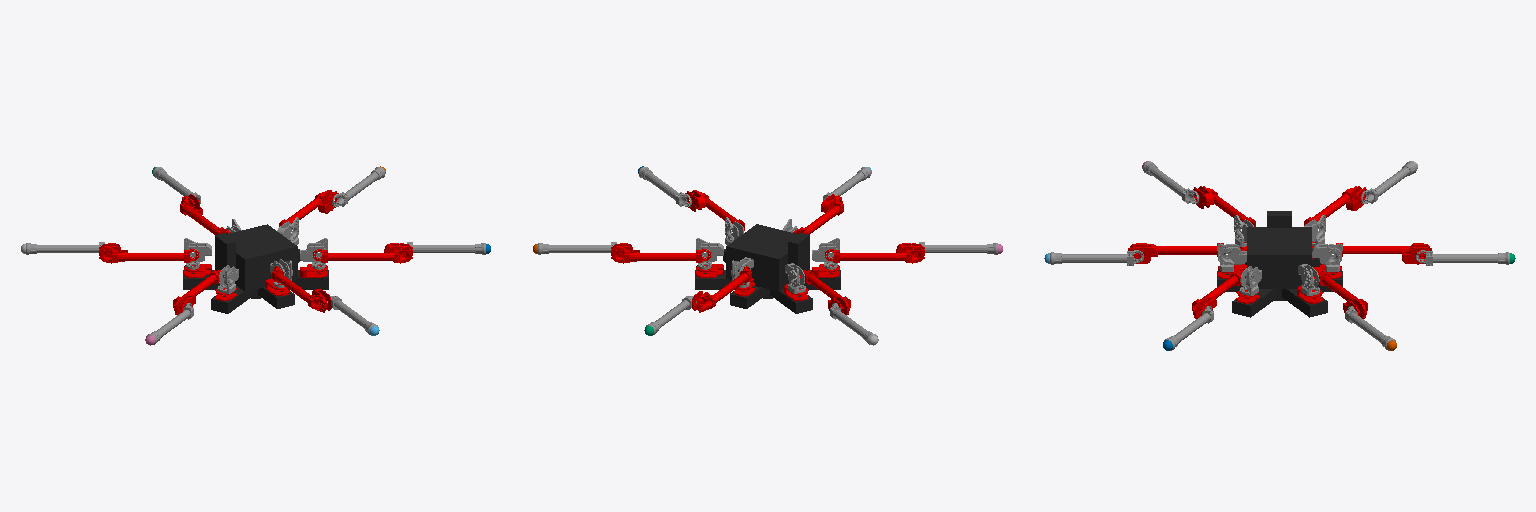
--- Render facts (derived) ---
Views: 3 orthographic renders of the robot side by side, from view 1: azimuth 30°, elevation 25°; view 2: azimuth 150°, elevation 25°; view 3: azimuth 270°, elevation 25°.
Robot: m6 — 31 links, 30 joints (18 revolute, 12 fixed); root link base_link; default pose: every joint at zero.
Visible links, largest first — view 1: base_link, elbow2__INPUT_INTERFACE, elbow5__INPUT_INTERFACE, elbow4__INPUT_INTERFACE, elbow3__INPUT_INTERFACE, elbow1__INPUT_INTERFACE, leg2__LAST_LINK, leg5__LAST_LINK, elbow6__INPUT_INTERFACE, leg1__LAST_LINK; view 2: base_link, elbow6__INPUT_INTERFACE, elbow1__INPUT_INTERFACE, elbow3__INPUT_INTERFACE, elbow4__INPUT_INTERFACE, leg6__LAST_LINK, leg1__LAST_LINK, elbow5__INPUT_INTERFACE, elbow2__INPUT_INTERFACE, leg2__LAST_LINK; view 3: base_link, elbow4__INPUT_INTERFACE, elbow3__INPUT_INTERFACE, leg4__LAST_LINK, leg3__LAST_LINK, elbow5__INPUT_INTERFACE, elbow1__INPUT_INTERFACE, elbow2__INPUT_INTERFACE, elbow6__INPUT_INTERFACE, leg5__LAST_LINK, leg6__LAST_LINK, shoulder3__INPUT_INTERFACE (+3 smaller).
Link boxes in pixels (box(x1,y1,x2,y2)): base_link: box(183, 224, 328, 313); elbow2__INPUT_INTERFACE: box(313, 243, 412, 263); elbow5__INPUT_INTERFACE: box(99, 243, 198, 263); elbow4__INPUT_INTERFACE: box(272, 266, 331, 312); elbow3__INPUT_INTERFACE: box(180, 194, 230, 234); elbow1__INPUT_INTERFACE: box(279, 190, 338, 226); leg2__LAST_LINK: box(407, 242, 485, 254); leg5__LAST_LINK: box(26, 242, 104, 254); elbow6__INPUT_INTERFACE: box(173, 270, 223, 314); leg1__LAST_LINK: box(332, 167, 385, 206); base_link: box(695, 224, 840, 313); elbow6__INPUT_INTERFACE: box(825, 243, 924, 263); elbow1__INPUT_INTERFACE: box(611, 243, 710, 263); elbow3__INPUT_INTERFACE: box(692, 266, 751, 312); elbow4__INPUT_INTERFACE: box(793, 194, 843, 234); leg6__LAST_LINK: box(919, 242, 997, 254); leg1__LAST_LINK: box(538, 242, 616, 254); elbow5__INPUT_INTERFACE: box(800, 270, 850, 314); elbow2__INPUT_INTERFACE: box(685, 190, 744, 230); leg2__LAST_LINK: box(638, 167, 691, 206); base_link: box(1217, 211, 1342, 317); elbow4__INPUT_INTERFACE: box(1128, 243, 1223, 263); elbow3__INPUT_INTERFACE: box(1336, 243, 1431, 264); leg4__LAST_LINK: box(1050, 250, 1143, 265); leg3__LAST_LINK: box(1416, 250, 1509, 265); elbow5__INPUT_INTERFACE: box(1304, 186, 1366, 225); elbow1__INPUT_INTERFACE: box(1314, 270, 1367, 318); elbow2__INPUT_INTERFACE: box(1192, 270, 1245, 318); elbow6__INPUT_INTERFACE: box(1193, 186, 1255, 226); leg5__LAST_LINK: box(1361, 161, 1416, 203); leg6__LAST_LINK: box(1143, 161, 1198, 203); shoulder3__INPUT_INTERFACE: box(1312, 243, 1342, 271).
Size in the robot's own frame: 1.54 by 1.67 by 0.245 metres.
25 mesh visuals loaded from 6 distinct referenced files (6 binary STL).

robot.urdf — m6:
<?xml version="1.0" encoding="utf-8"?>
<!-- =================================================================================== -->
<!-- |    This document was autogenerated by xacro from m6.urdf.xacro                  | -->
<!-- |    EDITING THIS FILE BY HAND IS NOT RECOMMENDED                                 | -->
<!-- =================================================================================== -->
<robot name="m6">
  <material name="red">
    <color rgba="0.92 0.0 0.0 1"/>
  </material>
  <material name="black">
    <color rgba="0.2 0.2 0.2 1"/>
  </material>
  <material name="grey">
    <color rgba="0.6 0.6 0.6 1"/>
  </material>
  <!-- <link name="dummy">
  </link>

  <joint name="dummy_joint" type="fixed">
  <parent link="dummy"/>
  <child link="base_link"/>
  </joint> -->
  <link name="base_link">
    <inertial>
      <origin rpy="0 0 0 " xyz="-0.0028085 -0.0003448 0.0270705"/>
      <mass value="1.8476"/>
      <inertia ixx="0" ixy="0" ixz="0" iyy="0" iyz="0" izz="0"/>
    </inertial>
    <visual>
      <origin rpy="0 0 0" xyz="0 0 0"/>
      <geometry>
        <mesh filename="yuna_stl/M6_base_matt6_boxed_full.STL"/>
      </geometry>
      <material name="black">
      </material>
    </visual>
    <collision>
      <origin rpy="0.0 0.0 0.0" xyz="-0.020030 0.0 0.09"/>
      <geometry>
        <box size="0.261940 0.223 0.18"/>
      </geometry>
    </collision>
    <collision>
      <origin rpy="0.0 0.0 0.0" xyz="0.0 0.0 -0.0335"/>
      <geometry>
        <cylinder length="0.063" radius="0.0777"/>
      </geometry>
    </collision>
    <!-- Pipes below PC box -->
    <collision>
      <origin rpy="0.523583333333 1.57075 0.0" xyz="0.1209 -0.06985 -0.02"/>
      <geometry>
        <cylinder length="0.126" radius="0.015800"/>
      </geometry>
    </collision>
    <collision>
      <origin rpy="-0.523583333333 1.57075 0.0" xyz="0.1209 0.06985 -0.02"/>
      <geometry>
        <cylinder length="0.126" radius="0.015800"/>
      </geometry>
    </collision>
    <collision>
      <origin rpy="0.523583333333 1.57075 0.0" xyz="-0.1209 0.06985 -0.02"/>
      <geometry>
        <cylinder length="0.126" radius="0.015800"/>
      </geometry>
    </collision>
    <collision>
      <origin rpy="-0.523583333333 1.57075 0.0" xyz="-0.1209 -0.06985 -0.02"/>
      <geometry>
        <cylinder length="0.126" radius="0.015800"/>
      </geometry>
    </collision>
    <collision>
      <origin rpy="1.57075 1.57075 0.0" xyz="0.0 0.1147 -0.02"/>
      <geometry>
        <cylinder length="0.076" radius="0.015800"/>
      </geometry>
    </collision>
    <collision>
      <origin rpy="1.57075 1.57075 0.0" xyz="0.0 -0.1147 -0.02"/>
      <geometry>
        <cylinder length="0.076" radius="0.015800"/>
      </geometry>
    </collision>
    <!-- Boxes at the end of pipes -->
    <collision>
      <origin rpy="0.0 0.0 0.523583333333" xyz="0.20802 0.1201 -0.023"/>
      <geometry>
        <box size="0.073 0.075 0.046"/>
      </geometry>
    </collision>
    <collision>
      <origin rpy="0.0 0.0 -0.523583333333" xyz="0.20802 -0.1201 -0.023"/>
      <geometry>
        <box size="0.073 0.075 0.046"/>
      </geometry>
    </collision>
    <collision>
      <origin rpy="0.0 0.0 0.523583333333" xyz="-0.20802 -0.1201 -0.023"/>
      <geometry>
        <box size="0.073 0.075 0.046"/>
      </geometry>
    </collision>
    <collision>
      <origin rpy="0.0 0.0 -0.523583333333" xyz="-0.20802 0.1201 -0.023"/>
      <geometry>
        <box size="0.073 0.075 0.046"/>
      </geometry>
    </collision>
    <collision>
      <origin rpy="0.0 0.0 1.57075" xyz="0.0 0.1902 -0.023"/>
      <geometry>
        <box size="0.073 0.075 0.046"/>
      </geometry>
    </collision>
    <collision>
      <origin rpy="0.0 0.0 1.57075" xyz="0.0 -0.1902 -0.023"/>
      <geometry>
        <box size="0.073 0.075 0.046"/>
      </geometry>
    </collision>
  </link>


  <joint name="leg1__OUTPUT_INTERFACE" type="fixed">
    <origin rpy="0 0 3.66508333333" xyz="0.205681 0.11875 0"/>
    <parent link="base_link"/>
    <child link="base1__INPUT_INTERFACE"/>
    <axis xyz="0 0 1"/>
    <limit effort="0" velocity="0"/>
  </joint>
    <link name="base1__INPUT_INTERFACE">
    <inertial>
      <origin rpy="0 0 0" xyz="0.015005 0.001775 0.015011"/>
      <mass value="1.2804"/>
      <inertia ixx="0.000533112547871023" ixy="8.52907138161489E-05" ixz="6.73224445510202E-07" iyy="0.000959826064510336" iyz="8.0840859065961E-07" izz="0.00130175668733721"/>
    </inertial>
    <visual>
      <origin rpy="0 0 0" xyz="0 0 0.015"/>
      <geometry>
        <mesh filename="yuna_stl/M6_base_motor.STL"/>
      </geometry>
      <material name="red">
      </material>
    </visual>
    <collision>
      <!--origin
          xyz="0 0 0.015"
          rpy="0 0 0" />
        <geometry>
          <mesh
            filename="yuna_stl/boxed_meshes/base_motor.STL" />
        </geometry-->
      <origin rpy="0 0 0" xyz="0.019940 0.001750 0.015525"/>
      <geometry>
        <box size="0.106400 0.069500 0.031050"/>
      </geometry>
    </collision>
  </link>
  <link name="shoulder1__INPUT_INTERFACE">
    <inertial>
      <origin rpy="0 0 0" xyz="-0.012554 -0.0090693 0.0503697"/>
      <mass value="1.4679"/>
      <inertia ixx="0.00085304" ixy="-4.463E-05" ixz="4.178E-05" iyy="0.0016596" iyz="4.4E-06" izz="0.00113592"/>
    </inertial>
    <visual>
      <origin rpy="0 0 0" xyz="0 0 0"/>
      <geometry>
        <mesh filename="yuna_stl/M6_left_link1_red.STL"/>
      </geometry>
      <material name="grey">
      </material>
    </visual>
    <collision>
      <!--origin
          xyz="0 0 0"
          rpy="0 0 0" />
        <geometry>
          <mesh
            filename="yuna_stl/boxed_meshes/left_link1_red.STL" />
        </geometry-->
      <origin rpy="0 0 0" xyz="-0.019070 -0.014470 0.052500"/>
      <geometry>
        <box size="0.108140 0.04500 0.104000"/>
      </geometry>
    </collision>
  </link>
  <joint name="base1" type="revolute">
    <origin rpy="0 0 3.1415" xyz="0 0 0.03105"/>
    <parent link="base1__INPUT_INTERFACE"/>
    <child link="shoulder1__INPUT_INTERFACE"/>
    <axis xyz="0 0 1"/>
    <dynamics damping=".1" friction="0.2"/>
    <limit effort="100.0" lower="-1.57075" upper="1.57075" velocity="2.208932"/>
  </joint>
  <transmission name="base1_trans">
    <type>transmission_interface/SimpleTransmission</type>
    <joint name="base1">
      <hardwareInterface>hardware_interface/EffortJointInterface</hardwareInterface>
    </joint>
    <actuator name="base1_motor">
      <hardwareInterface>hardware_interface/EffortJointInterface</hardwareInterface>
      <mechanicalReduction>300</mechanicalReduction>
    </actuator>
  </transmission>
  <link name="elbow1__INPUT_INTERFACE">
    <inertial>
      <origin rpy="0 0 0" xyz="0.27885723 0.00143862 -0.00919708"/>
      <mass value="1.58985"/>
      <inertia ixx="0.00087813" ixy="-2.653E-05" ixz="-0.00101493" iyy="0.01121522" iyz="-1.36E-05" izz="0.01137087"/>
    </inertial>
    <visual>
      <origin rpy="0 0 0" xyz="0 0 0"/>
      <geometry>
        <mesh filename="yuna_stl/M6_link2_red.STL"/>
      </geometry>
      <material name="red">
      </material>
    </visual>
    <collision>
      <!--origin
          xyz="0 0 0"
          rpy="0 0 0" />
        <geometry>
          <mesh
            filename="yuna_stl/boxed_meshes/link2_red.STL" />
        </geometry-->
      <origin rpy="0 0 0" xyz="0.005750 0.0 0.018750"/>
      <geometry>
        <box size="0.05950 0.04800 0.037500"/>
      </geometry>
    </collision>
    <collision>
      <origin rpy="0 1.57075 0" xyz="0.159500 0.0 0.02"/>
      <geometry>
        <cylinder length="0.246" radius="0.015811"/>
      </geometry>
    </collision>
    <collision>
      <origin rpy="0 0 0" xyz="0.317750 0.0 0.01875"/>
      <geometry>
        <box size="0.06850 0.06500 0.037500"/>
      </geometry>
    </collision>
    <collision>
      <origin rpy="0.0 0.0 0.0" xyz="0.299560 0.001750 -0.015520"/>
      <geometry>
        <box size="0.106400 0.069500 0.030050"/>
      </geometry>
    </collision>
  </link>
  <joint name="shoulder1" type="revolute">
    <origin rpy="-1.57075 0 0" xyz="0 0.00855 0.055"/>
    <parent link="shoulder1__INPUT_INTERFACE"/>
    <child link="elbow1__INPUT_INTERFACE"/>
    <axis xyz="0 0 1"/>
    <dynamics damping=".1" friction="0.2"/>
    <limit effort="100.0" lower="-1.57075" upper="1.57075" velocity="2.208932"/>
  </joint>
  <transmission name="shoulder1_trans">
    <type>transmission_interface/SimpleTransmission</type>
    <joint name="shoulder1">
      <hardwareInterface>hardware_interface/EffortJointInterface</hardwareInterface>
    </joint>
    <actuator name="shoulder1_motor">
      <hardwareInterface>hardware_interface/EffortJointInterface</hardwareInterface>
      <mechanicalReduction>300</mechanicalReduction>
    </actuator>
  </transmission>
  <link name="leg1__LAST_LINK">
    <inertial>
      <origin rpy="0 0 0" xyz="0.12121923 0 0.01723596"/>
      <mass value="0.229433"/>
      <inertia ixx="7.471E-05" ixy="0" ixz="7.798E-05" iyy="0.00331684" iyz="0" izz="0.0033262"/>
    </inertial>
    <visual>
      <origin rpy="0 0 0" xyz="0 0 0"/>
      <geometry>
        <mesh filename="yuna_stl/M6_link3_red.STL"/>
      </geometry>
      <material name="grey">
      </material>
    </visual>
    <!--collision>
        <origin
          xyz="0 0 0"
          rpy="0 0 0" />
        <geometry>
          <mesh
            filename="yuna_stl/boxed_meshes/link3_red.STL" />
        </geometry>
      </collision-->
    <collision>
      <origin rpy="0 0 0" xyz="0.00575 0.0 0.0185"/>
      <geometry>
        <box size="0.05850 0.04800 0.03650"/>
      </geometry>
    </collision>
    <collision>
      <origin rpy="0.0 1.57075 0.0" xyz="0.15125 0.000 0.020"/>
      <geometry>
        <cylinder length="0.230500" radius="0.015811"/>
      </geometry>
    </collision>
    <collision>
      <origin rpy="0.0 0.0 0.0" xyz="0.28950 0.00 0.02"/>
      <geometry>
        <box size="0.045000 0.047030 0.047030"/>
      </geometry>
    </collision>
  </link>
  <joint name="elbow1" type="revolute">
    <origin rpy="3.1415 0 0" xyz="0.3195 0 -0.03105"/>
    <parent link="elbow1__INPUT_INTERFACE"/>
    <child link="leg1__LAST_LINK"/>
    <axis xyz="0 0 1"/>
    <dynamics damping=".1" friction="0.2"/>
    <limit effort="100.0" lower="-3.1415" upper="3.1415" velocity="2.208932"/>
  </joint>
  <transmission name="elbow1_trans">
    <type>transmission_interface/SimpleTransmission</type>
    <joint name="elbow1">
      <hardwareInterface>hardware_interface/EffortJointInterface</hardwareInterface>
    </joint>
    <actuator name="elbow1_motor">
      <hardwareInterface>hardware_interface/EffortJointInterface</hardwareInterface>
      <mechanicalReduction>300</mechanicalReduction>
    </actuator>
  </transmission>
  <link name="leg1__FOOT">
    <visual>
      <origin rpy="0 0 0" xyz="0 0 0"/>
      <geometry>
        <sphere radius="0.02"/>
      </geometry>
      <material name="orange"/>
    </visual>
    <collision>
      <origin rpy="0 0 0" xyz="0 0 0"/>
      <geometry>
        <sphere radius="0.03"/>
      </geometry>
    </collision>
    <inertial>
      <origin rpy="0 0 0" xyz="0 0 0"/>
      <mass value="0.06"/>
      <inertia ixx="9.6e-06" ixy="0.0" ixz="0.0" iyy="9.6e-06" iyz="0.0" izz="9.6e-06"/>
    </inertial>
  </link>
  <joint name="leg1__FOOT_INTERFACE" type="fixed">
    <origin rpy="0 0 0" xyz="0.31 0 0.02"/>
    <parent link="leg1__LAST_LINK"/>
    <child link="leg1__FOOT"/>
    <axis xyz="0 0 1"/>
    <limit effort="0" velocity="0"/>
  </joint>
  <link name="base3__INPUT_INTERFACE">
    <inertial>
      <origin rpy="0 0 0" xyz="0.015005 0.001775 0.015011"/>
      <mass value="1.2804"/>
      <inertia ixx="0.000533112547871023" ixy="8.52907138161489E-05" ixz="6.73224445510202E-07" iyy="0.000959826064510336" iyz="8.0840859065961E-07" izz="0.00130175668733721"/>
    </inertial>
    <visual>
      <origin rpy="0 0 0" xyz="0 0 0.015"/>
      <geometry>
        <mesh filename="yuna_stl/M6_base_motor.STL"/>
      </geometry>
      <material name="red">
      </material>
    </visual>
    <collision>
      <!--origin
          xyz="0 0 0.015"
          rpy="0 0 0" />
        <geometry>
          <mesh
            filename="yuna_stl/boxed_meshes/base_motor.STL" />
        </geometry-->
      <origin rpy="0 0 0" xyz="0.019940 0.001750 0.015525"/>
      <geometry>
        <box size="0.106400 0.069500 0.031050"/>
      </geometry>
    </collision>
  </link>
  <joint name="leg3__OUTPUT_INTERFACE" type="fixed">
    <origin rpy="0 0 4.71225" xyz="0 0.1875 0"/>
    <parent link="base_link"/>
    <child link="base3__INPUT_INTERFACE"/>
    <axis xyz="0 0 1"/>
    <limit effort="0" velocity="0"/>
  </joint>
  <link name="shoulder3__INPUT_INTERFACE">
    <inertial>
      <origin rpy="0 0 0" xyz="-0.012554 -0.0090693 0.0503697"/>
      <mass value="1.4679"/>
      <inertia ixx="0.00085304" ixy="-4.463E-05" ixz="4.178E-05" iyy="0.0016596" iyz="4.4E-06" izz="0.00113592"/>
    </inertial>
    <visual>
      <origin rpy="0 0 0" xyz="0 0 0"/>
      <geometry>
        <mesh filename="yuna_stl/M6_left_link1_red.STL"/>
      </geometry>
      <material name="grey">
      </material>
    </visual>
    <collision>
      <!--origin
          xyz="0 0 0"
          rpy="0 0 0" />
        <geometry>
          <mesh
            filename="yuna_stl/boxed_meshes/left_link1_red.STL" />
        </geometry-->
      <origin rpy="0 0 0" xyz="-0.019070 -0.014470 0.052500"/>
      <geometry>
        <box size="0.108140 0.04500 0.104000"/>
      </geometry>
    </collision>
  </link>
  <joint name="base3" type="revolute">
    <origin rpy="0 0 3.1415" xyz="0 0 0.03105"/>
    <parent link="base3__INPUT_INTERFACE"/>
    <child link="shoulder3__INPUT_INTERFACE"/>
    <axis xyz="0 0 1"/>
    <dynamics damping=".1" friction="0.2"/>
    <limit effort="100.0" lower="-1.57075" upper="1.57075" velocity="2.208932"/>
  </joint>
  <transmission name="base3_trans">
    <type>transmission_interface/SimpleTransmission</type>
    <joint name="base3">
      <hardwareInterface>hardware_interface/EffortJointInterface</hardwareInterface>
    </joint>
    <actuator name="base3_motor">
      <hardwareInterface>hardware_interface/EffortJointInterface</hardwareInterface>
      <mechanicalReduction>300</mechanicalReduction>
    </actuator>
  </transmission>
  <link name="elbow3__INPUT_INTERFACE">
    <inertial>
      <origin rpy="0 0 0" xyz="0.27885723 0.00143862 -0.00919708"/>
      <mass value="1.58985"/>
      <inertia ixx="0.00087813" ixy="-2.653E-05" ixz="-0.00101493" iyy="0.01121522" iyz="-1.36E-05" izz="0.01137087"/>
    </inertial>
    <visual>
      <origin rpy="0 0 0" xyz="0 0 0"/>
      <geometry>
        <mesh filename="yuna_stl/M6_link2_red.STL"/>
      </geometry>
      <material name="red">
      </material>
    </visual>
    <collision>
      <!--origin
          xyz="0 0 0"
          rpy="0 0 0" />
        <geometry>
          <mesh
            filename="yuna_stl/boxed_meshes/link2_red.STL" />
        </geometry-->
      <origin rpy="0 0 0" xyz="0.005750 0.0 0.018750"/>
      <geometry>
        <box size="0.05950 0.04800 0.037500"/>
      </geometry>
    </collision>
    <collision>
      <origin rpy="0 1.57075 0" xyz="0.159500 0.0 0.02"/>
      <geometry>
        <cylinder length="0.246" radius="0.015811"/>
      </geometry>
    </collision>
    <collision>
      <origin rpy="0 0 0" xyz="0.317750 0.0 0.01875"/>
      <geometry>
        <box size="0.06850 0.06500 0.037500"/>
      </geometry>
    </collision>
    <collision>
      <origin rpy="0.0 0.0 0.0" xyz="0.299560 0.001750 -0.015520"/>
      <geometry>
        <box size="0.106400 0.069500 0.030050"/>
      </geometry>
    </collision>
  </link>
  <joint name="shoulder3" type="revolute">
    <origin rpy="-1.57075 0 0" xyz="0 0.00855 0.055"/>
    <parent link="shoulder3__INPUT_INTERFACE"/>
    <child link="elbow3__INPUT_INTERFACE"/>
    <axis xyz="0 0 1"/>
    <dynamics damping=".1" friction="0.2"/>
    <limit effort="100.0" lower="-1.57075" upper="1.57075" velocity="2.208932"/>
  </joint>
  <transmission name="shoulder3_trans">
    <type>transmission_interface/SimpleTransmission</type>
    <joint name="shoulder3">
      <hardwareInterface>hardware_interface/EffortJointInterface</hardwareInterface>
    </joint>
    <actuator name="shoulder3_motor">
      <hardwareInterface>hardware_interface/EffortJointInterface</hardwareInterface>
      <mechanicalReduction>300</mechanicalReduction>
    </actuator>
  </transmission>
  <link name="leg3__LAST_LINK">
    <inertial>
      <origin rpy="0 0 0" xyz="0.12121923 0 0.01723596"/>
      <mass value="0.229433"/>
      <inertia ixx="7.471E-05" ixy="0" ixz="7.798E-05" iyy="0.00331684" iyz="0" izz="0.0033262"/>
    </inertial>
    <visual>
      <origin rpy="0 0 0" xyz="0 0 0"/>
      <geometry>
        <mesh filename="yuna_stl/M6_link3_red.STL"/>
      </geometry>
      <material name="grey">
      </material>
    </visual>
    <!--collision>
        <origin
          xyz="0 0 0"
          rpy="0 0 0" />
        <geometry>
          <mesh
            filename="yuna_stl/boxed_meshes/link3_red.STL" />
        </geometry>
      </collision-->
    <collision>
      <origin rpy="0 0 0" xyz="0.00575 0.0 0.0185"/>
      <geometry>
        <box size="0.05850 0.04800 0.03650"/>
      </geometry>
    </collision>
    <collision>
      <origin rpy="0.0 1.57075 0.0" xyz="0.15125 0.000 0.020"/>
      <geometry>
        <cylinder length="0.230500" radius="0.015811"/>
      </geometry>
    </collision>
    <collision>
      <origin rpy="0.0 0.0 0.0" xyz="0.28950 0.00 0.02"/>
      <geometry>
        <box size="0.045000 0.047030 0.047030"/>
      </geometry>
    </collision>
  </link>
  <joint name="elbow3" type="revolute">
    <origin rpy="3.1415 0 0" xyz="0.3195 0 -0.03105"/>
    <parent link="elbow3__INPUT_INTERFACE"/>
    <child link="leg3__LAST_LINK"/>
    <axis xyz="0 0 1"/>
    <dynamics damping=".1" friction="0.2"/>
    <limit effort="100.0" lower="-3.1415" upper="3.1415" velocity="2.208932"/>
  </joint>
  <transmission name="elbow3_trans">
    <type>transmission_interface/SimpleTransmission</type>
    <joint name="elbow3">
      <hardwareInterface>hardware_interface/EffortJointInterface</hardwareInterface>
    </joint>
    <actuator name="elbow3_motor">
      <hardwareInterface>hardware_interface/EffortJointInterface</hardwareInterface>
      <mechanicalReduction>300</mechanicalReduction>
    </actuator>
  </transmission>
  <link name="leg3__FOOT">
    <visual>
      <origin rpy="0 0 0" xyz="0 0 0"/>
      <geometry>
        <sphere radius="0.02"/>
      </geometry>
      <material name="orange"/>
    </visual>
    <collision>
      <origin rpy="0 0 0" xyz="0 0 0"/>
      <geometry>
        <sphere radius="0.03"/>
      </geometry>
    </collision>
    <inertial>
      <origin rpy="0 0 0" xyz="0 0 0"/>
      <mass value="0.06"/>
      <inertia ixx="9.6e-06" ixy="0.0" ixz="0.0" iyy="9.6e-06" iyz="0.0" izz="9.6e-06"/>
    </inertial>
  </link>
  <joint name="leg3__FOOT_INTERFACE" type="fixed">
    <origin rpy="0 0 0" xyz="0.31 0 0.02"/>
    <parent link="leg3__LAST_LINK"/>
    <child link="leg3__FOOT"/>
    <axis xyz="0 0 1"/>
    <limit effort="0" velocity="0"/>
  </joint>
  <link name="base5__INPUT_INTERFACE">
    <inertial>
      <origin rpy="0 0 0" xyz="0.015005 0.001775 0.015011"/>
      <mass value="1.2804"/>
      <inertia ixx="0.000533112547871023" ixy="8.52907138161489E-05" ixz="6.73224445510202E-07" iyy="0.000959826064510336" iyz="8.0840859065961E-07" izz="0.00130175668733721"/>
    </inertial>
    <visual>
      <origin rpy="0 0 0" xyz="0 0 0.015"/>
      <geometry>
        <mesh filename="yuna_stl/M6_base_motor.STL"/>
      </geometry>
      <material name="red">
      </material>
    </visual>
    <collision>
      <!--origin
          xyz="0 0 0.015"
          rpy="0 0 0" />
        <geometry>
          <mesh
            filename="yuna_stl/boxed_meshes/base_motor.STL" />
        </geometry-->
      <origin rpy="0 0 0" xyz="0.019940 0.001750 0.015525"/>
      <geometry>
        <box size="0.106400 0.069500 0.031050"/>
      </geometry>
    </collision>
  </link>
  <joint name="leg5__OUTPUT_INTERFACE" type="fixed">
    <origin rpy="0 0 5.75941666667" xyz="-0.205681 0.11875 0"/>
    <parent link="base_link"/>
    <child link="base5__INPUT_INTERFACE"/>
    <axis xyz="0 0 1"/>
    <limit effort="0" velocity="0"/>
  </joint>
  <link name="shoulder5__INPUT_INTERFACE">
    <inertial>
      <origin rpy="0 0 0" xyz="-0.012554 -0.0090693 0.0503697"/>
      <mass value="1.4679"/>
      <inertia ixx="0.00085304" ixy="-4.463E-05" ixz="4.178E-05" iyy="0.0016596" iyz="4.4E-06" izz="0.00113592"/>
    </inertial>
    <visual>
      <origin rpy="0 0 0" xyz="0 0 0"/>
      <geometry>
        <mesh filename="yuna_stl/M6_left_link1_red.STL"/>
      </geometry>
      <material name="grey">
      </material>
    </visual>
    <collision>
      <!--origin
          xyz="0 0 0"
          rpy="0 0 0" />
        <geometry>
          <mesh
            filename="yuna_stl/boxed_meshes/left_link1_red.STL" />
        </geometry-->
      <origin rpy="0 0 0" xyz="-0.019070 -0.014470 0.052500"/>
      <geometry>
        <box size="0.108140 0.04500 0.104000"/>
      </geometry>
    </collision>
  </link>
  <joint name="base5" type="revolute">
    <origin rpy="0 0 3.1415" xyz="0 0 0.03105"/>
    <parent link="base5__INPUT_INTERFACE"/>
    <child link="shoulder5__INPUT_INTERFACE"/>
    <axis xyz="0 0 1"/>
    <dynamics damping=".1" friction="0.2"/>
    <limit effort="100.0" lower="-1.57075" upper="1.57075" velocity="2.208932"/>
  </joint>
  <transmission name="base5_trans">
    <type>transmission_interface/SimpleTransmission</type>
    <joint name="base5">
      <hardwareInterface>hardware_interface/EffortJointInterface</hardwareInterface>
    </joint>
    <actuator name="base5_motor">
      <hardwareInterface>hardware_interface/EffortJointInterface</hardwareInterface>
      <mechanicalReduction>300</mechanicalReduction>
    </actuator>
  </transmission>
  <link name="elbow5__INPUT_INTERFACE">
    <inertial>
      <origin rpy="0 0 0" xyz="0.27885723 0.00143862 -0.00919708"/>
      <mass value="1.58985"/>
      <inertia ixx="0.00087813" ixy="-2.653E-05" ixz="-0.00101493" iyy="0.01121522" iyz="-1.36E-05" izz="0.01137087"/>
    </inertial>
    <visual>
      <origin rpy="0 0 0" xyz="0 0 0"/>
      <geometry>
        <mesh filename="yuna_stl/M6_link2_red.STL"/>
      </geometry>
      <material name="red">
      </material>
    </visual>
    <collision>
      <!--origin
          xyz="0 0 0"
          rpy="0 0 0" />
        <geometry>
          <mesh
            filename="yuna_stl/boxed_meshes/link2_red.STL" />
        </geometry-->
      <origin rpy="0 0 0" xyz="0.005750 0.0 0.018750"/>
      <geometry>
        <box size="0.05950 0.04800 0.037500"/>
      </geometry>
    </collision>
    <collision>
      <origin rpy="0 1.57075 0" xyz="0.159500 0.0 0.02"/>
      <geometry>
        <cylinder length="0.246" radius="0.015811"/>
      </geometry>
    </collision>
    <collision>
      <origin rpy="0 0 0" xyz="0.317750 0.0 0.01875"/>
      <geometry>
        <box size="0.06850 0.06500 0.037500"/>
      </geometry>
    </collision>
    <collision>
      <origin rpy="0.0 0.0 0.0" xyz="0.299560 0.001750 -0.015520"/>
      <geometry>
        <box size="0.106400 0.069500 0.030050"/>
      </geometry>
    </collision>
  </link>
  <joint name="shoulder5" type="revolute">
    <origin rpy="-1.57075 0 0" xyz="0 0.00855 0.055"/>
    <parent link="shoulder5__INPUT_INTERFACE"/>
    <child link="elbow5__INPUT_INTERFACE"/>
    <axis xyz="0 0 1"/>
    <dynamics damping=".1" friction="0.2"/>
    <limit effort="100.0" lower="-1.57075" upper="1.57075" velocity="2.208932"/>
  </joint>
  <transmission name="shoulder5_trans">
    <type>transmission_interface/SimpleTransmission</type>
    <joint name="shoulder5">
      <hardwareInterface>hardware_interface/EffortJointInterface</hardwareInterface>
    </joint>
    <actuator name="shoulder5_motor">
      <hardwareInterface>hardware_interface/EffortJointInterface</hardwareInterface>
      <mechanicalReduction>300</mechanicalReduction>
    </actuator>
  </transmission>
  <link name="leg5__LAST_LINK">
    <inertial>
      <origin rpy="0 0 0" xyz="0.12121923 0 0.01723596"/>
      <mass value="0.229433"/>
      <inertia ixx="7.471E-05" ixy="0" ixz="7.798E-05" iyy="0.00331684" iyz="0" izz="0.0033262"/>
    </inertial>
    <visual>
      <origin rpy="0 0 0" xyz="0 0 0"/>
      <geometry>
        <mesh filename="yuna_stl/M6_link3_red.STL"/>
      </geometry>
      <material name="grey">
      </material>
    </visual>
    <!--collision>
        <origin
          xyz="0 0 0"
          rpy="0 0 0" />
        <geometry>
          <mesh
            filename="yuna_stl/boxed_meshes/link3_red.STL" />
        </geometry>
      </collision-->
    <collision>
      <origin rpy="0 0 0" xyz="0.00575 0.0 0.0185"/>
      <geometry>
        <box size="0.05850 0.04800 0.03650"/>
      </geometry>
    </collision>
    <collision>
      <origin rpy="0.0 1.57075 0.0" xyz="0.15125 0.000 0.020"/>
      <geometry>
        <cylinder length="0.230500" radius="0.015811"/>
      </geometry>
    </collision>
    <collision>
      <origin rpy="0.0 0.0 0.0" xyz="0.28950 0.00 0.02"/>
      <geometry>
        <box size="0.045000 0.047030 0.047030"/>
      </geometry>
    </collision>
  </link>
  <joint name="elbow5" type="revolute">
    <origin rpy="3.1415 0 0" xyz="0.3195 0 -0.03105"/>
    <parent link="elbow5__INPUT_INTERFACE"/>
    <child link="leg5__LAST_LINK"/>
    <axis xyz="0 0 1"/>
    <dynamics damping=".1" friction="0.2"/>
    <limit effort="100.0" lower="-3.1415" upper="3.1415" velocity="2.208932"/>
  </joint>
  <transmission name="elbow5_trans">
    <type>transmission_interface/SimpleTransmission</type>
    <joint name="elbow5">
      <hardwareInterface>hardware_interface/EffortJointInterface</hardwareInterface>
    </joint>
    <actuator name="elbow5_motor">
      <hardwareInterface>hardware_interface/EffortJointInterface</hardwareInterface>
      <mechanicalReduction>300</mechanicalReduction>
    </actuator>
  </transmission>
  <link name="leg5__FOOT">
    <visual>
      <origin rpy="0 0 0" xyz="0 0 0"/>
      <geometry>
        <sphere radius="0.02"/>
      </geometry>
      <material name="orange"/>
    </visual>
    <collision>
      <origin rpy="0 0 0" xyz="0 0 0"/>
      <geometry>
        <sphere radius="0.03"/>
      </geometry>
    </collision>
    <inertial>
      <origin rpy="0 0 0" xyz="0 0 0"/>
      <mass value="0.06"/>
      <inertia ixx="9.6e-06" ixy="0.0" ixz="0.0" iyy="9.6e-06" iyz="0.0" izz="9.6e-06"/>
    </inertial>
  </link>
  <joint name="leg5__FOOT_INTERFACE" type="fixed">
    <origin rpy="0 0 0" xyz="0.31 0 0.02"/>
    <parent link="leg5__LAST_LINK"/>
    <child link="leg5__FOOT"/>
    <axis xyz="0 0 1"/>
    <limit effort="0" velocity="0"/>
  </joint>
  <link name="base2__INPUT_INTERFACE">
    <inertial>
      <origin rpy="0 0 0" xyz="0.015005 0.001775 0.015011"/>
      <mass value="1.2804"/>
      <inertia ixx="0.000533112547871023" ixy="8.52907138161489E-05" ixz="6.73224445510202E-07" iyy="0.000959826064510336" iyz="8.0840859065961E-07" izz="0.00130175668733721"/>
    </inertial>
    <visual>
      <origin rpy="0 0 0" xyz="0 0 0.015"/>
      <geometry>
        <mesh filename="yuna_stl/M6_base_motor.STL"/>
      </geometry>
      <material name="red">
      </material>
    </visual>
    <collision>
      <!--origin
          xyz="0 0 0.015"
          rpy="0 0 0" />
        <geometry>
          <mesh
            filename="yuna_stl/boxed_meshes/base_motor.STL" />
        </geometry-->
      <origin rpy="0 0 0" xyz="0.019940 0.001750 0.015525"/>
      <geometry>
        <box size="0.106400 0.069500 0.031050"/>
      </geometry>
    </collision>
  </link>
  <joint name="leg2__OUTPUT_INTERFACE" type="fixed">
    <origin rpy="0 0 2.61791666667" xyz="0.205681 -0.11875 0"/>
    <parent link="base_link"/>
    <child link="base2__INPUT_INTERFACE"/>
    <axis xyz="0 0 1"/>
    <limit effort="0" velocity="0"/>
  </joint>
  <link name="shoulder2__INPUT_INTERFACE">
    <inertial>
      <origin rpy="0 0 0" xyz="-0.012554 -0.0090693 -0.0503697"/>
      <mass value="1.4679"/>
      <inertia ixx="0.00085304" ixy="-4.463E-05" ixz="-4.178E-05" iyy="0.0016596" iyz="-4.4E-06" izz="0.00113592"/>
    </inertial>
    <visual>
      <origin rpy="0 0 0" xyz="0 0 0"/>
      <geometry>
        <mesh filename="yuna_stl/M6_right_link1_red.STL"/>
      </geometry>
      <material name="grey">
      </material>
    </visual>
    <collision>
      <!--origin
          xyz="0 0 0"
          rpy="0 0 0" />
        <geometry>
          <mesh
            filename="yuna_stl/boxed_meshes/right_link1_red.STL" />
        </geometry-->
      <origin rpy="0 0 0" xyz="0.019070 -0.014470 0.052500"/>
      <geometry>
        <box size="0.108140 0.04500 0.104000"/>
      </geometry>
    </collision>
  </link>
  <joint name="base2" type="revolute">
    <origin rpy="0 0 0" xyz="0 0 0.03105"/>
    <parent link="base2__INPUT_INTERFACE"/>
    <child link="shoulder2__INPUT_INTERFACE"/>
    <axis xyz="0 0 1"/>
    <dynamics damping=".1" friction="0.2"/>
    <limit effort="80.0" lower="-1.57075" upper="1.57075" velocity="2.208932"/>
  </joint>
  <transmission name="base2_trans">
    <type>transmission_interface/SimpleTransmission</type>
    <joint name="base2">
      <hardwareInterface>hardware_interface/EffortJointInterface</hardwareInterface>
    </joint>
    <actuator name="base2_motor">
      <hardwareInterface>hardware_interface/EffortJointInterface</hardwareInterface>
      <mechanicalReduction>300</mechanicalReduction>
    </actuator>
  </transmission>
  <link name="elbow2__INPUT_INTERFACE">
    <inertial>
      <origin rpy="0 0 0" xyz="0.27885723 0.00143862 -0.00919708"/>
      <mass value="1.58985"/>
      <inertia ixx="0.00087813" ixy="-2.653E-05" ixz="-0.00101493" iyy="0.01121522" iyz="-1.36E-05" izz="0.01137087"/>
    </inertial>
    <visual>
      <origin rpy="0 0 0" xyz="0 0 0"/>
      <geometry>
        <mesh filename="yuna_stl/M6_link2_red.STL"/>
      </geometry>
      <material name="red">
      </material>
    </visual>
    <collision>
      <!--origin
          xyz="0 0 0"
          rpy="0 0 0" />
        <geometry>
          <mesh
            filename="yuna_stl/boxed_meshes/link2_red.STL" />
        </geometry-->
      <origin rpy="0 0 0" xyz="0.005750 0.0 0.018750"/>
      <geometry>
        <box size="0.05950 0.04800 0.037500"/>
      </geometry>
    </collision>
    <collision>
      <origin rpy="0 1.57075 0" xyz="0.159500 0.0 0.02"/>
      <geometry>
        <cylinder length="0.246" radius="0.015811"/>
      </geometry>
    </collision>
    <collision>
      <origin rpy="0 0 0" xyz="0.317750 0.0 0.01875"/>
      <geometry>
        <box size="0.06850 0.06500 0.037500"/>
      </geometry>
    </collision>
    <collision>
      <origin rpy="0.0 0.0 0.0" xyz="0.299560 0.001750 -0.015520"/>
      <geometry>
        <box size="0.106400 0.069500 0.030050"/>
      </geometry>
    </collision>
  </link>
  <joint name="shoulder2" type="revolute">
    <origin rpy="1.57075 0 3.1415" xyz="0 0.00855 0.055"/>
    <parent link="shoulder2__INPUT_INTERFACE"/>
    <child link="elbow2__INPUT_INTERFACE"/>
    <axis xyz="0 0 1"/>
    <dynamics damping=".1" friction="0.2"/>
    <limit effort="80.0" lower="-1.57075" upper="1.57075" velocity="2.208932"/>
  </joint>
  <transmission name="shoulder2_trans">
    <type>transmission_interface/SimpleTransmission</type>
    <joint name="shoulder2">
      <hardwareInterface>hardware_interface/EffortJointInterface</hardwareInterface>
    </joint>
    <actuator name="shoulder2_motor">
      <hardwareInterface>hardware_interface/EffortJointInterface</hardwareInterface>
      <mechanicalReduction>300</mechanicalReduction>
    </actuator>
  </transmission>
  <link name="leg2__LAST_LINK">
    <inertial>
      <origin rpy="0 0 0" xyz="0.12121923 0 0.01723596"/>
      <mass value="0.229433"/>
      <inertia ixx="7.471E-05" ixy="0" ixz="7.798E-05" iyy="0.00331684" iyz="0" izz="0.0033262"/>
    </inertial>
    <visual>
      <origin rpy="0 0 0" xyz="0 0 0"/>
      <geometry>
        <mesh filename="yuna_stl/M6_link3_red.STL"/>
      </geometry>
      <material name="grey">
      </material>
    </visual>
    <!--collision>
        <origin
          xyz="0 0 0"
          rpy="0 0 0" />
        <geometry>
          <mesh
            filename="yuna_stl/boxed_meshes/link3_red.STL" />
        </geometry>
      </collision-->
    <collision>
      <origin rpy="0 0 0" xyz="0.00575 0.0 0.0185"/>
      <geometry>
        <box size="0.05850 0.04800 0.03650"/>
      </geometry>
    </collision>
    <collision>
      <origin rpy="0.0 1.57075 0.0" xyz="0.15125 0.000 0.020"/>
      <geometry>
        <cylinder length="0.230500" radius="0.015811"/>
      </geometry>
    </collision>
    <collision>
      <origin rpy="0.0 0.0 0.0" xyz="0.28950 0.00 0.02"/>
      <geometry>
        <box size="0.045000 0.047030 0.047030"/>
      </geometry>
    </collision>
  </link>
  <joint name="elbow2" type="revolute">
    <origin rpy="3.1415 0 0" xyz="0.3195 0 -0.03105"/>
    <parent link="elbow2__INPUT_INTERFACE"/>
    <child link="leg2__LAST_LINK"/>
    <axis xyz="0 0 1"/>
    <dynamics damping=".1" friction="0.2"/>
    <limit effort="80.0" lower="-3.1415" upper="3.1415" velocity="2.208932"/>
  </joint>
  <transmission name="elbow2_trans">
    <type>transmission_interface/SimpleTransmission</type>
    <joint name="elbow2">
      <hardwareInterface>hardware_interface/EffortJointInterface</hardwareInterface>
    </joint>
    <actuator name="elbow2_motor">
      <hardwareInterface>hardware_interface/EffortJointInterface</hardwareInterface>
      <mechanicalReduction>300</mechanicalReduction>
    </actuator>
  </transmission>
  <link name="leg2__FOOT">
    <visual>
      <origin rpy="0 0 0" xyz="0 0 0"/>
      <geometry>
        <sphere radius="0.02"/>
      </geometry>
      <material name="orange"/>
    </visual>
    <collision>
      <origin rpy="0 0 0" xyz="0 0 0"/>
      <geometry>
        <sphere radius="0.03"/>
      </geometry>
    </collision>
    <inertial>
      <origin rpy="0 0 0" xyz="0 0 0"/>
      <mass value="0.06"/>
      <inertia ixx="9.6e-06" ixy="0.0" ixz="0.0" iyy="9.6e-06" iyz="0.0" izz="9.6e-06"/>
    </inertial>
  </link>
  <joint name="leg2__FOOT_INTERFACE" type="fixed">
    <origin rpy="0 0 0" xyz="0.31 0 0.02"/>
    <parent link="leg2__LAST_LINK"/>
    <child link="leg2__FOOT"/>
    <axis xyz="0 0 1"/>
    <limit effort="0" velocity="0"/>
  </joint>
  <link name="base4__INPUT_INTERFACE">
    <inertial>
      <origin rpy="0 0 0" xyz="0.015005 0.001775 0.015011"/>
      <mass value="1.2804"/>
      <inertia ixx="0.000533112547871023" ixy="8.52907138161489E-05" ixz="6.73224445510202E-07" iyy="0.000959826064510336" iyz="8.0840859065961E-07" izz="0.00130175668733721"/>
    </inertial>
    <visual>
      <origin rpy="0 0 0" xyz="0 0 0.015"/>
      <geometry>
        <mesh filename="yuna_stl/M6_base_motor.STL"/>
      </geometry>
      <material name="red">
      </material>
    </visual>
    <collision>
      <!--origin
          xyz="0 0 0.015"
          rpy="0 0 0" />
        <geometry>
          <mesh
            filename="yuna_stl/boxed_meshes/base_motor.STL" />
        </geometry-->
      <origin rpy="0 0 0" xyz="0.019940 0.001750 0.015525"/>
      <geometry>
        <box size="0.106400 0.069500 0.031050"/>
      </geometry>
    </collision>
  </link>
  <joint name="leg4__OUTPUT_INTERFACE" type="fixed">
    <origin rpy="0 0 1.57075" xyz="0 -0.1875 0"/>
    <parent link="base_link"/>
    <child link="base4__INPUT_INTERFACE"/>
    <axis xyz="0 0 1"/>
    <limit effort="0" velocity="0"/>
  </joint>
  <link name="shoulder4__INPUT_INTERFACE">
    <inertial>
      <origin rpy="0 0 0" xyz="-0.012554 -0.0090693 -0.0503697"/>
      <mass value="1.4679"/>
      <inertia ixx="0.00085304" ixy="-4.463E-05" ixz="-4.178E-05" iyy="0.0016596" iyz="-4.4E-06" izz="0.00113592"/>
    </inertial>
    <visual>
      <origin rpy="0 0 0" xyz="0 0 0"/>
      <geometry>
        <mesh filename="yuna_stl/M6_right_link1_red.STL"/>
      </geometry>
      <material name="grey">
      </material>
    </visual>
    <collision>
      <!--origin
          xyz="0 0 0"
          rpy="0 0 0" />
        <geometry>
          <mesh
            filename="yuna_stl/boxed_meshes/right_link1_red.STL" />
        </geometry-->
      <origin rpy="0 0 0" xyz="0.019070 -0.014470 0.052500"/>
      <geometry>
        <box size="0.108140 0.04500 0.104000"/>
      </geometry>
    </collision>
  </link>
  <joint name="base4" type="revolute">
    <origin rpy="0 0 0" xyz="0 0 0.03105"/>
    <parent link="base4__INPUT_INTERFACE"/>
    <child link="shoulder4__INPUT_INTERFACE"/>
    <axis xyz="0 0 1"/>
    <dynamics damping=".1" friction="0.2"/>
    <limit effort="100.0" lower="-1.57075" upper="1.57075" velocity="2.208932"/>
  </joint>
  <transmission name="base4_trans">
    <type>transmission_interface/SimpleTransmission</type>
    <joint name="base4">
      <hardwareInterface>hardware_interface/EffortJointInterface</hardwareInterface>
    </joint>
    <actuator name="base4_motor">
      <hardwareInterface>hardware_interface/EffortJointInterface</hardwareInterface>
      <mechanicalReduction>300</mechanicalReduction>
    </actuator>
  </transmission>
  <link name="elbow4__INPUT_INTERFACE">
    <inertial>
      <origin rpy="0 0 0" xyz="0.27885723 0.00143862 -0.00919708"/>
      <mass value="1.58985"/>
      <inertia ixx="0.00087813" ixy="-2.653E-05" ixz="-0.00101493" iyy="0.01121522" iyz="-1.36E-05" izz="0.01137087"/>
    </inertial>
    <visual>
      <origin rpy="0 0 0" xyz="0 0 0"/>
      <geometry>
        <mesh filename="yuna_stl/M6_link2_red.STL"/>
      </geometry>
      <material name="red">
      </material>
    </visual>
    <collision>
      <!--origin
          xyz="0 0 0"
          rpy="0 0 0" />
        <geometry>
          <mesh
            filename="yuna_stl/boxed_meshes/link2_red.STL" />
        </geometry-->
      <origin rpy="0 0 0" xyz="0.005750 0.0 0.018750"/>
      <geometry>
        <box size="0.05950 0.04800 0.037500"/>
      </geometry>
    </collision>
    <collision>
      <origin rpy="0 1.57075 0" xyz="0.159500 0.0 0.02"/>
      <geometry>
        <cylinder length="0.246" radius="0.015811"/>
      </geometry>
    </collision>
    <collision>
      <origin rpy="0 0 0" xyz="0.317750 0.0 0.01875"/>
      <geometry>
        <box size="0.06850 0.06500 0.037500"/>
      </geometry>
    </collision>
    <collision>
      <origin rpy="0.0 0.0 0.0" xyz="0.299560 0.001750 -0.015520"/>
      <geometry>
        <box size="0.106400 0.069500 0.030050"/>
      </geometry>
    </collision>
  </link>
  <joint name="shoulder4" type="revolute">
    <origin rpy="1.57075 0 3.1415" xyz="0 0.00855 0.055"/>
    <parent link="shoulder4__INPUT_INTERFACE"/>
    <child link="elbow4__INPUT_INTERFACE"/>
    <axis xyz="0 0 1"/>
    <dynamics damping=".1" friction="0.2"/>
    <limit effort="100.0" lower="-1.57075" upper="1.57075" velocity="2.208932"/>
  </joint>
  <transmission name="shoulder4_trans">
    <type>transmission_interface/SimpleTransmission</type>
    <joint name="shoulder4">
      <hardwareInterface>hardware_interface/EffortJointInterface</hardwareInterface>
    </joint>
    <actuator name="shoulder4_motor">
      <hardwareInterface>hardware_interface/EffortJointInterface</hardwareInterface>
      <mechanicalReduction>300</mechanicalReduction>
    </actuator>
  </transmission>
  <link name="leg4__LAST_LINK">
    <inertial>
      <origin rpy="0 0 0" xyz="0.12121923 0 0.01723596"/>
      <mass value="0.229433"/>
      <inertia ixx="7.471E-05" ixy="0" ixz="7.798E-05" iyy="0.00331684" iyz="0" izz="0.0033262"/>
    </inertial>
    <visual>
      <origin rpy="0 0 0" xyz="0 0 0"/>
      <geometry>
        <mesh filename="yuna_stl/M6_link3_red.STL"/>
      </geometry>
      <material name="grey">
      </material>
    </visual>
    <!--collision>
        <origin
          xyz="0 0 0"
          rpy="0 0 0" />
        <geometry>
          <mesh
            filename="yuna_stl/boxed_meshes/link3_red.STL" />
        </geometry>
      </collision-->
    <collision>
      <origin rpy="0 0 0" xyz="0.00575 0.0 0.0185"/>
      <geometry>
        <box size="0.05850 0.04800 0.03650"/>
      </geometry>
    </collision>
    <collision>
      <origin rpy="0.0 1.57075 0.0" xyz="0.15125 0.000 0.020"/>
      <geometry>
        <cylinder length="0.230500" radius="0.015811"/>
      </geometry>
    </collision>
    <collision>
      <origin rpy="0.0 0.0 0.0" xyz="0.28950 0.00 0.02"/>
      <geometry>
        <box size="0.045000 0.047030 0.047030"/>
      </geometry>
    </collision>
  </link>
  <joint name="elbow4" type="revolute">
    <origin rpy="3.1415 0 0" xyz="0.3195 0 -0.03105"/>
    <parent link="elbow4__INPUT_INTERFACE"/>
    <child link="leg4__LAST_LINK"/>
    <axis xyz="0 0 1"/>
    <dynamics damping=".1" friction="0.2"/>
    <limit effort="100.0" lower="-3.1415" upper="3.1415" velocity="2.208932"/>
  </joint>
  <transmission name="elbow4_trans">
    <type>transmission_interface/SimpleTransmission</type>
    <joint name="elbow4">
      <hardwareInterface>hardware_interface/EffortJointInterface</hardwareInterface>
    </joint>
    <actuator name="elbow4_motor">
      <hardwareInterface>hardware_interface/EffortJointInterface</hardwareInterface>
      <mechanicalReduction>300</mechanicalReduction>
    </actuator>
  </transmission>
  <link name="leg4__FOOT">
    <visual>
      <origin rpy="0 0 0" xyz="0 0 0"/>
      <geometry>
        <sphere radius="0.02"/>
      </geometry>
      <material name="orange"/>
    </visual>
    <collision>
      <origin rpy="0 0 0" xyz="0 0 0"/>
      <geometry>
        <sphere radius="0.03"/>
      </geometry>
    </collision>
    <inertial>
      <origin rpy="0 0 0" xyz="0 0 0"/>
      <mass value="0.06"/>
      <inertia ixx="9.6e-06" ixy="0.0" ixz="0.0" iyy="9.6e-06" iyz="0.0" izz="9.6e-06"/>
    </inertial>
  </link>
  <joint name="leg4__FOOT_INTERFACE" type="fixed">
    <origin rpy="0 0 0" xyz="0.31 0 0.02"/>
    <parent link="leg4__LAST_LINK"/>
    <child link="leg4__FOOT"/>
    <axis xyz="0 0 1"/>
    <limit effort="0" velocity="0"/>
  </joint>
  <link name="base6__INPUT_INTERFACE">
    <inertial>
      <origin rpy="0 0 0" xyz="0.015005 0.001775 0.015011"/>
      <mass value="1.2804"/>
      <inertia ixx="0.000533112547871023" ixy="8.52907138161489E-05" ixz="6.73224445510202E-07" iyy="0.000959826064510336" iyz="8.0840859065961E-07" izz="0.00130175668733721"/>
    </inertial>
    <visual>
      <origin rpy="0 0 0" xyz="0 0 0.015"/>
      <geometry>
        <mesh filename="yuna_stl/M6_base_motor.STL"/>
      </geometry>
      <material name="red">
      </material>
    </visual>
    <collision>
      <!--origin
          xyz="0 0 0.015"
          rpy="0 0 0" />
        <geometry>
          <mesh
            filename="yuna_stl/boxed_meshes/base_motor.STL" />
        </geometry-->
      <origin rpy="0 0 0" xyz="0.019940 0.001750 0.015525"/>
      <geometry>
        <box size="0.106400 0.069500 0.031050"/>
      </geometry>
    </collision>
  </link>
  <joint name="leg6__OUTPUT_INTERFACE" type="fixed">
    <origin rpy="0 0 0.523583333333" xyz="-0.205681 -0.11875 0"/>
    <parent link="base_link"/>
    <child link="base6__INPUT_INTERFACE"/>
    <axis xyz="0 0 1"/>
    <limit effort="0" velocity="0"/>
  </joint>
  <link name="shoulder6__INPUT_INTERFACE">
    <inertial>
      <origin rpy="0 0 0" xyz="-0.012554 -0.0090693 -0.0503697"/>
      <mass value="1.4679"/>
      <inertia ixx="0.00085304" ixy="-4.463E-05" ixz="-4.178E-05" iyy="0.0016596" iyz="-4.4E-06" izz="0.00113592"/>
    </inertial>
    <visual>
      <origin rpy="0 0 0" xyz="0 0 0"/>
      <geometry>
        <mesh filename="yuna_stl/M6_right_link1_red.STL"/>
      </geometry>
      <material name="grey">
      </material>
    </visual>
    <collision>
      <!--origin
          xyz="0 0 0"
          rpy="0 0 0" />
        <geometry>
          <mesh
            filename="yuna_stl/boxed_meshes/right_link1_red.STL" />
        </geometry-->
      <origin rpy="0 0 0" xyz="0.019070 -0.014470 0.052500"/>
      <geometry>
        <box size="0.108140 0.04500 0.104000"/>
      </geometry>
    </collision>
  </link>
  <joint name="base6" type="revolute">
    <origin rpy="0 0 0" xyz="0 0 0.03105"/>
    <parent link="base6__INPUT_INTERFACE"/>
    <child link="shoulder6__INPUT_INTERFACE"/>
    <axis xyz="0 0 1"/>
    <dynamics damping=".1" friction="0.2"/>
    <limit effort="100.0" lower="-1.57075" upper="1.57075" velocity="2.208932"/>
  </joint>
  <transmission name="base6_trans">
    <type>transmission_interface/SimpleTransmission</type>
    <joint name="base6">
      <hardwareInterface>hardware_interface/EffortJointInterface</hardwareInterface>
    </joint>
    <actuator name="base6_motor">
      <hardwareInterface>hardware_interface/EffortJointInterface</hardwareInterface>
      <mechanicalReduction>300</mechanicalReduction>
    </actuator>
  </transmission>
  <link name="elbow6__INPUT_INTERFACE">
    <inertial>
      <origin rpy="0 0 0" xyz="0.27885723 0.00143862 -0.00919708"/>
      <mass value="1.58985"/>
      <inertia ixx="0.00087813" ixy="-2.653E-05" ixz="-0.00101493" iyy="0.01121522" iyz="-1.36E-05" izz="0.01137087"/>
    </inertial>
    <visual>
      <origin rpy="0 0 0" xyz="0 0 0"/>
      <geometry>
        <mesh filename="yuna_stl/M6_link2_red.STL"/>
      </geometry>
      <material name="red">
      </material>
    </visual>
    <collision>
      <!--origin
          xyz="0 0 0"
          rpy="0 0 0" />
        <geometry>
          <mesh
            filename="yuna_stl/boxed_meshes/link2_red.STL" />
        </geometry-->
      <origin rpy="0 0 0" xyz="0.005750 0.0 0.018750"/>
      <geometry>
        <box size="0.05950 0.04800 0.037500"/>
      </geometry>
    </collision>
    <collision>
      <origin rpy="0 1.57075 0" xyz="0.159500 0.0 0.02"/>
      <geometry>
        <cylinder length="0.246" radius="0.015811"/>
      </geometry>
    </collision>
    <collision>
      <origin rpy="0 0 0" xyz="0.317750 0.0 0.01875"/>
      <geometry>
        <box size="0.06850 0.06500 0.037500"/>
      </geometry>
    </collision>
    <collision>
      <origin rpy="0.0 0.0 0.0" xyz="0.299560 0.001750 -0.015520"/>
      <geometry>
        <box size="0.106400 0.069500 0.030050"/>
      </geometry>
    </collision>
  </link>
  <joint name="shoulder6" type="revolute">
    <origin rpy="1.57075 0 3.1415" xyz="0 0.00855 0.055"/>
    <parent link="shoulder6__INPUT_INTERFACE"/>
    <child link="elbow6__INPUT_INTERFACE"/>
    <axis xyz="0 0 1"/>
    <dynamics damping=".1" friction="0.2"/>
    <limit effort="100.0" lower="-1.57075" upper="1.57075" velocity="2.208932"/>
  </joint>
  <transmission name="shoulder6_trans">
    <type>transmission_interface/SimpleTransmission</type>
    <joint name="shoulder6">
      <hardwareInterface>hardware_interface/EffortJointInterface</hardwareInterface>
    </joint>
    <actuator name="shoulder6_motor">
      <hardwareInterface>hardware_interface/EffortJointInterface</hardwareInterface>
      <mechanicalReduction>300</mechanicalReduction>
    </actuator>
  </transmission>
  <link name="leg6__LAST_LINK">
    <inertial>
      <origin rpy="0 0 0" xyz="0.12121923 0 0.01723596"/>
      <mass value="0.229433"/>
      <inertia ixx="7.471E-05" ixy="0" ixz="7.798E-05" iyy="0.00331684" iyz="0" izz="0.0033262"/>
    </inertial>
    <visual>
      <origin rpy="0 0 0" xyz="0 0 0"/>
      <geometry>
        <mesh filename="yuna_stl/M6_link3_red.STL"/>
      </geometry>
      <material name="grey">
      </material>
    </visual>
    <!--collision>
        <origin
          xyz="0 0 0"
          rpy="0 0 0" />
        <geometry>
          <mesh
            filename="yuna_stl/boxed_meshes/link3_red.STL" />
        </geometry>
      </collision-->
    <collision>
      <origin rpy="0 0 0" xyz="0.00575 0.0 0.0185"/>
      <geometry>
        <box size="0.05850 0.04800 0.03650"/>
      </geometry>
    </collision>
    <collision>
      <origin rpy="0.0 1.57075 0.0" xyz="0.15125 0.000 0.020"/>
      <geometry>
        <cylinder length="0.230500" radius="0.015811"/>
      </geometry>
    </collision>
    <collision>
      <origin rpy="0.0 0.0 0.0" xyz="0.28950 0.00 0.02"/>
      <geometry>
        <box size="0.045000 0.047030 0.047030"/>
      </geometry>
    </collision>
  </link>
  <joint name="elbow6" type="revolute">
    <origin rpy="3.1415 0 0" xyz="0.3195 0 -0.03105"/>
    <parent link="elbow6__INPUT_INTERFACE"/>
    <child link="leg6__LAST_LINK"/>
    <axis xyz="0 0 1"/>
    <dynamics damping=".1" friction="0.2"/>
    <limit effort="100.0" lower="-3.1415" upper="3.1415" velocity="2.208932"/>
  </joint>
  <transmission name="elbow6_trans">
    <type>transmission_interface/SimpleTransmission</type>
    <joint name="elbow6">
      <hardwareInterface>hardware_interface/EffortJointInterface</hardwareInterface>
    </joint>
    <actuator name="elbow6_motor">
      <hardwareInterface>hardware_interface/EffortJointInterface</hardwareInterface>
      <mechanicalReduction>300</mechanicalReduction>
    </actuator>
  </transmission>
  <link name="leg6__FOOT">
    <visual>
      <origin rpy="0 0 0" xyz="0 0 0"/>
      <geometry>
        <sphere radius="0.02"/>
      </geometry>
      <material name="orange"/>
    </visual>
    <collision>
      <origin rpy="0 0 0" xyz="0 0 0"/>
      <geometry>
        <sphere radius="0.03"/>
      </geometry>
    </collision>
    <inertial>
      <origin rpy="0 0 0" xyz="0 0 0"/>
      <mass value="0.06"/>
      <inertia ixx="9.6e-06" ixy="0.0" ixz="0.0" iyy="9.6e-06" iyz="0.0" izz="9.6e-06"/>
    </inertial>
  </link>
  <joint name="leg6__FOOT_INTERFACE" type="fixed">
    <origin rpy="0 0 0" xyz="0.31 0 0.02"/>
    <parent link="leg6__LAST_LINK"/>
    <child link="leg6__FOOT"/>
    <axis xyz="0 0 1"/>
    <limit effort="0" velocity="0"/>
  </joint>
</robot>
